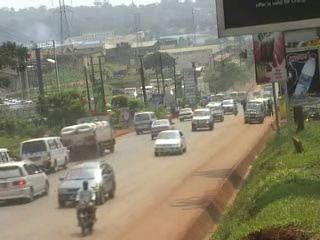Car: (54, 159, 117, 208), (0, 158, 52, 204), (149, 128, 188, 157), (189, 106, 216, 133), (148, 117, 176, 140), (178, 106, 193, 121)
Motorcycle: (72, 194, 99, 237), (230, 104, 239, 117)
